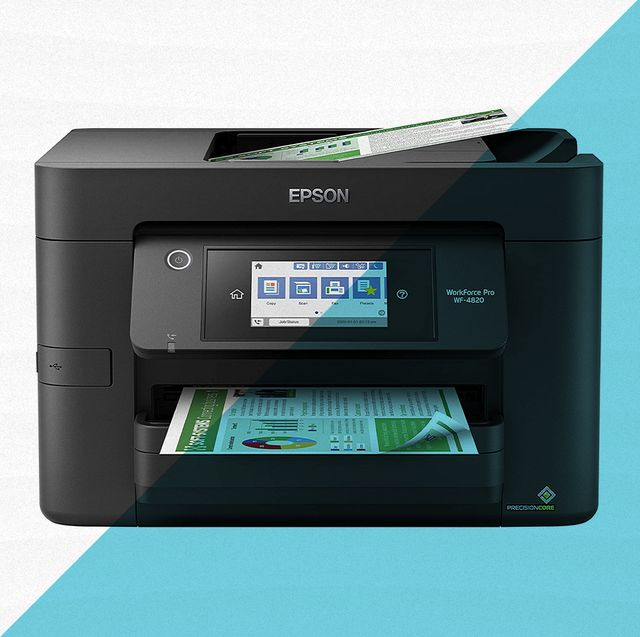printer: (27, 105, 603, 530)
